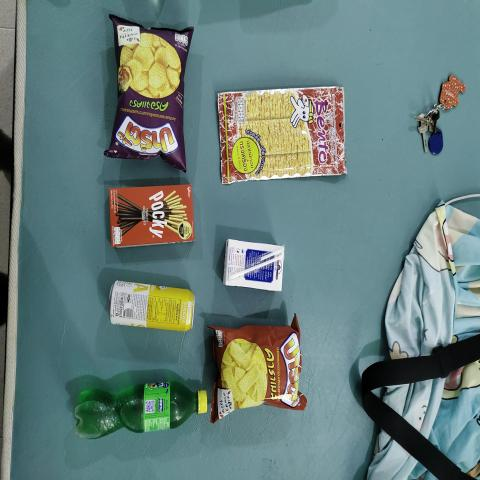bento_red: (218, 94, 342, 172)
fanta_green: (73, 372, 205, 442)
party_purple: (117, 17, 180, 162)
party_red: (212, 330, 301, 406)
pokki: (112, 188, 190, 244)
singha_yellow: (108, 282, 194, 330)
thai_denmark: (226, 240, 284, 290)
